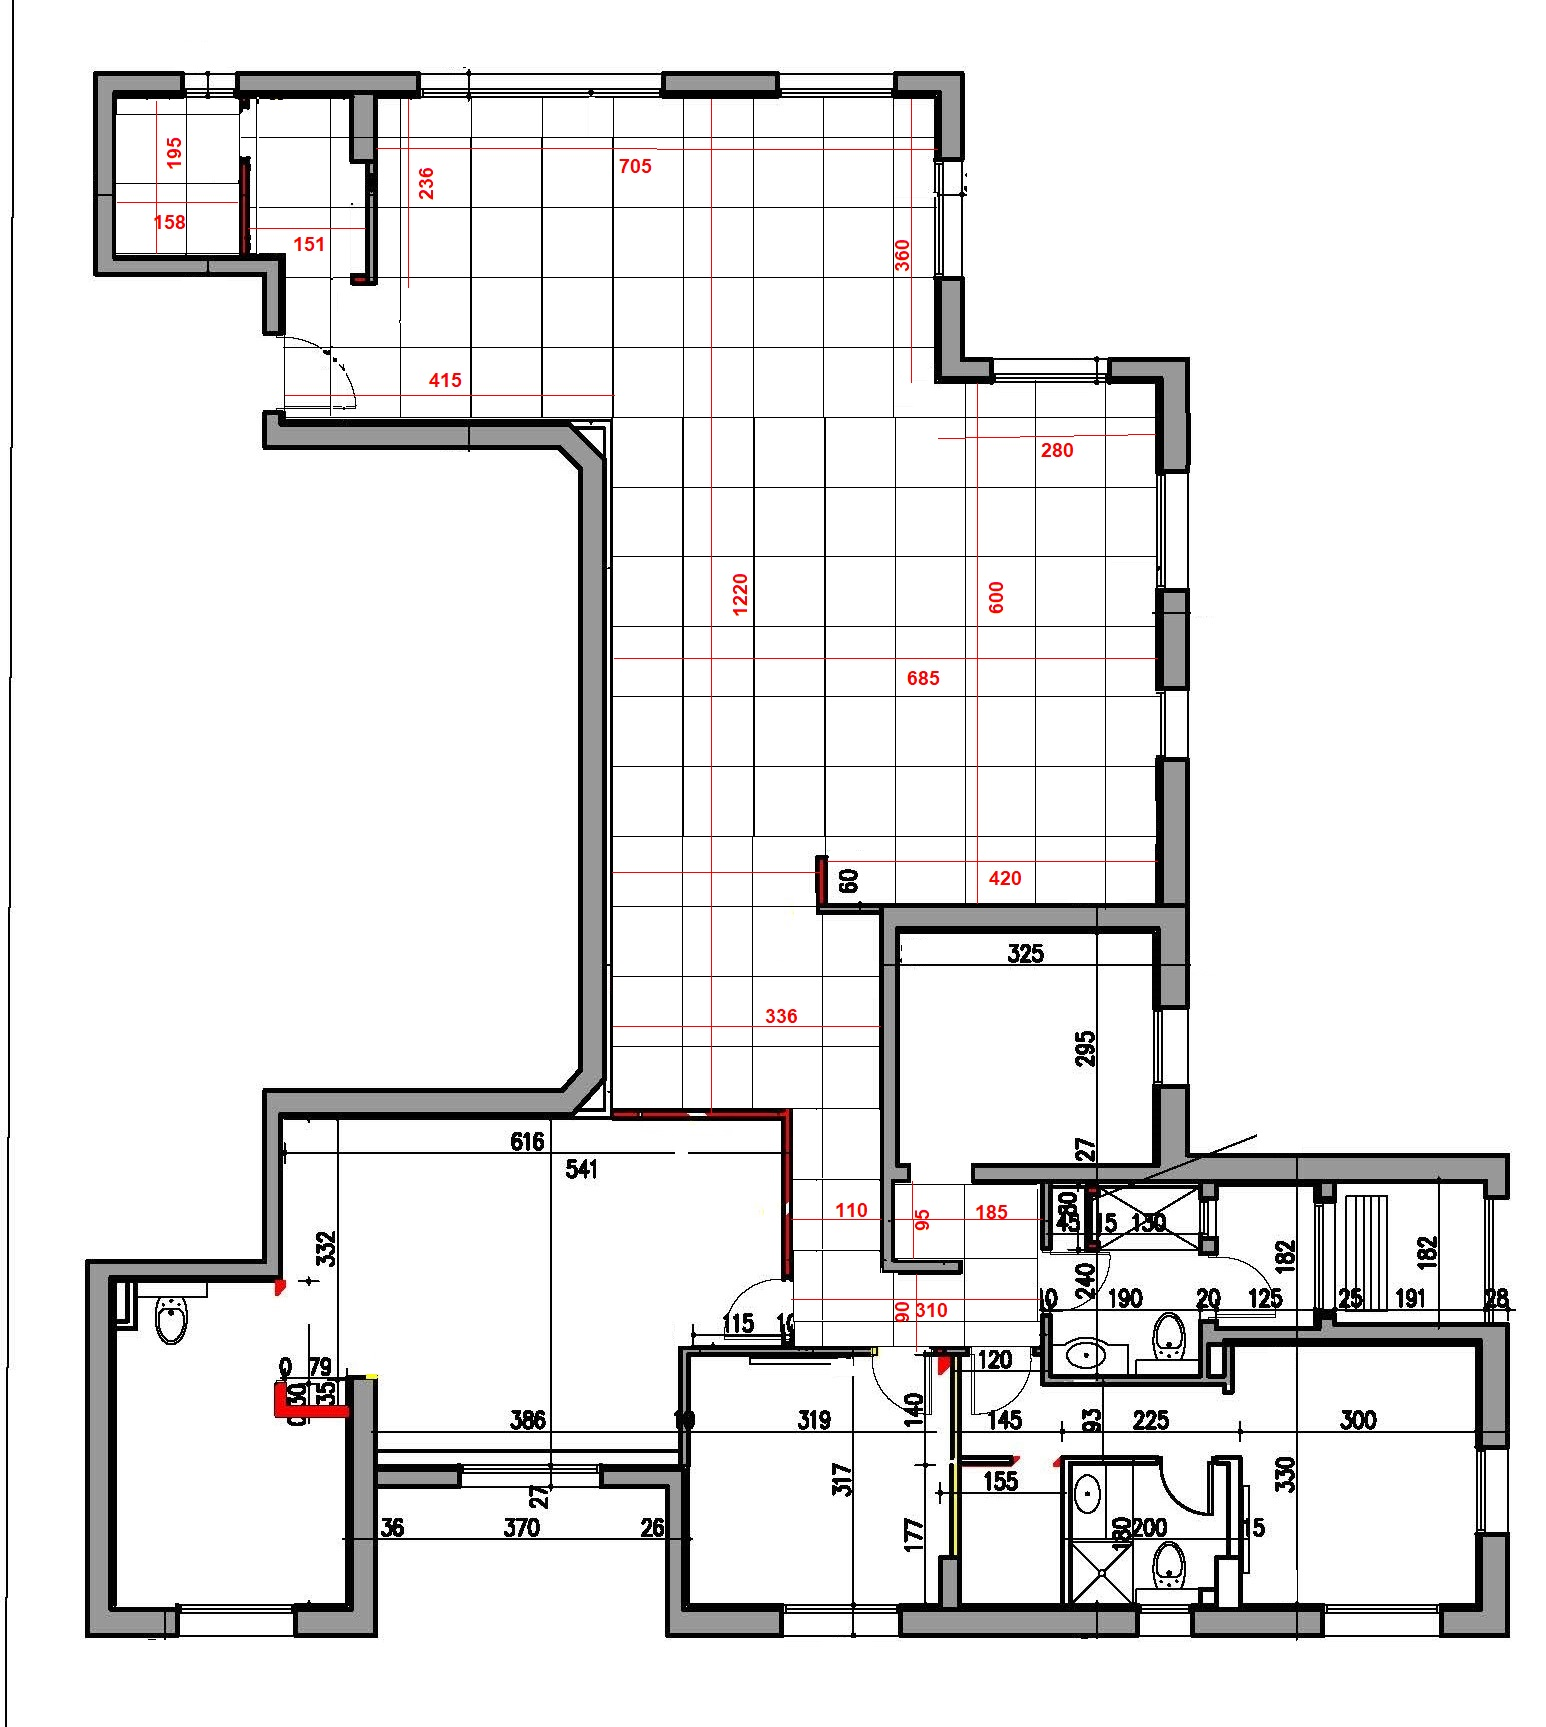door: (1221, 1249, 1298, 1322), (866, 1357, 937, 1427), (963, 1357, 1040, 1420), (1054, 1249, 1131, 1312), (716, 1273, 777, 1343), (1155, 1464, 1221, 1520), (1154, 1461, 1219, 1517)
wall: (580, 472, 603, 1075), (90, 1261, 113, 1637), (263, 1090, 566, 1114)
window: (419, 73, 664, 99), (783, 1602, 898, 1640), (179, 1602, 294, 1640), (1324, 1602, 1440, 1637), (1157, 473, 1189, 591), (460, 1464, 601, 1490), (934, 161, 964, 279), (1473, 1446, 1512, 1534), (992, 358, 1110, 384), (779, 73, 895, 99), (1152, 1009, 1189, 1087), (1157, 690, 1189, 761), (1140, 1602, 1192, 1637), (184, 75, 234, 99)
